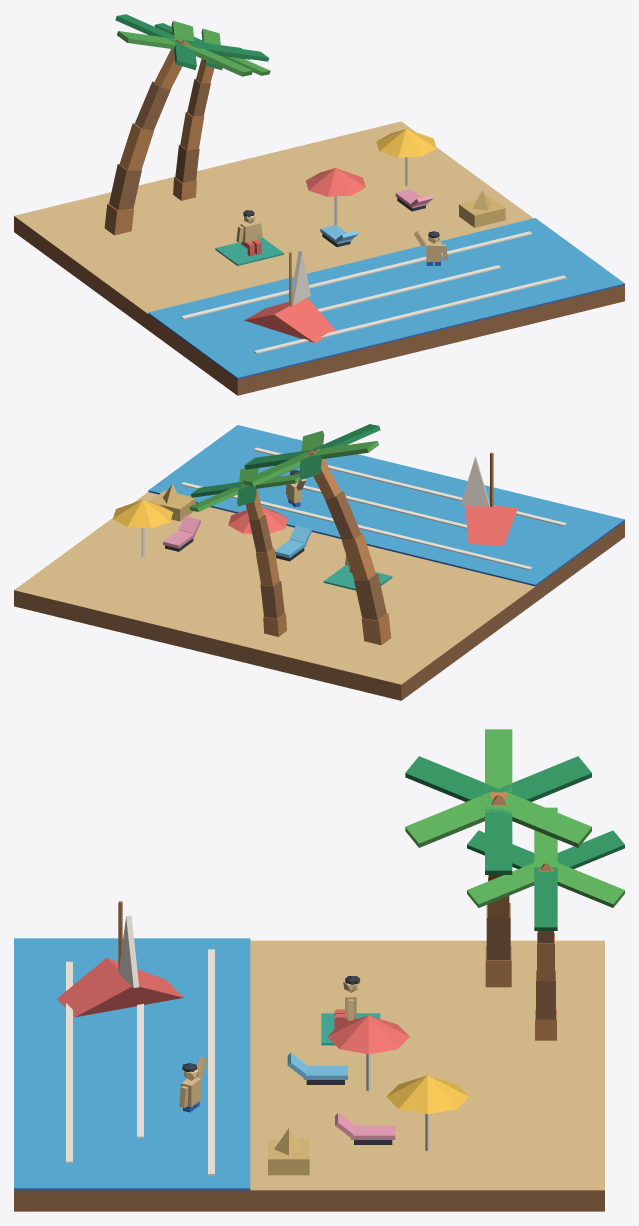
The model's file is nature_beach.glb.
3 views of the same model, one above another, from view 1: azimuth 30°, elevation 25°; view 2: azimuth 150°, elevation 25°; view 3: azimuth 270°, elevation 25° (orthographic). The views are drawn at different scales.
Parts seen in each view (by area): view 1: nature_beach; view 2: nature_beach; view 3: nature_beach.
Part boxes in pixels (box(x1,y1,x2,y2)): nature_beach: box(14, 14, 624, 395); nature_beach: box(14, 424, 624, 700); nature_beach: box(14, 729, 624, 1211).
Bounding box in the file's own units: 1 × 0.5205 × 1.03.
